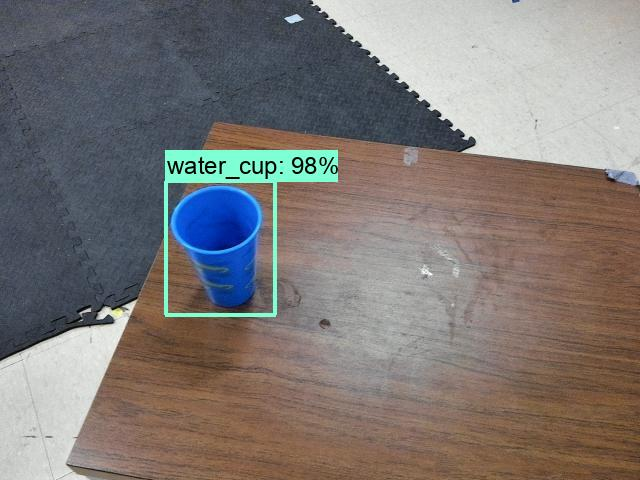water_cup: (163, 185, 269, 316)
